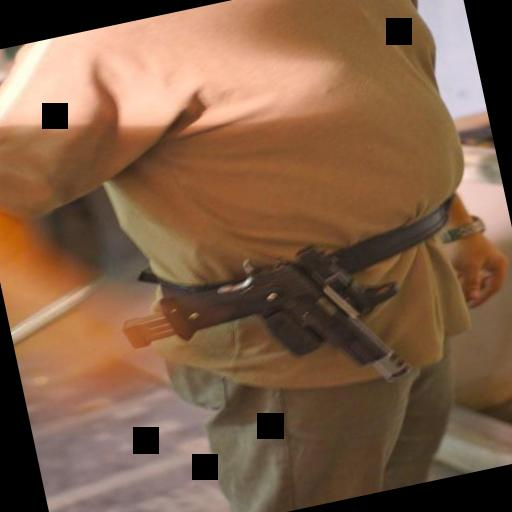Handgun: (107, 232, 413, 436)
